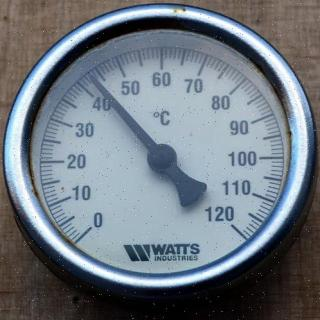gauge: (0, 0, 320, 320), (146, 142, 178, 174), (75, 214, 105, 242), (219, 210, 245, 240), (84, 70, 102, 88)
